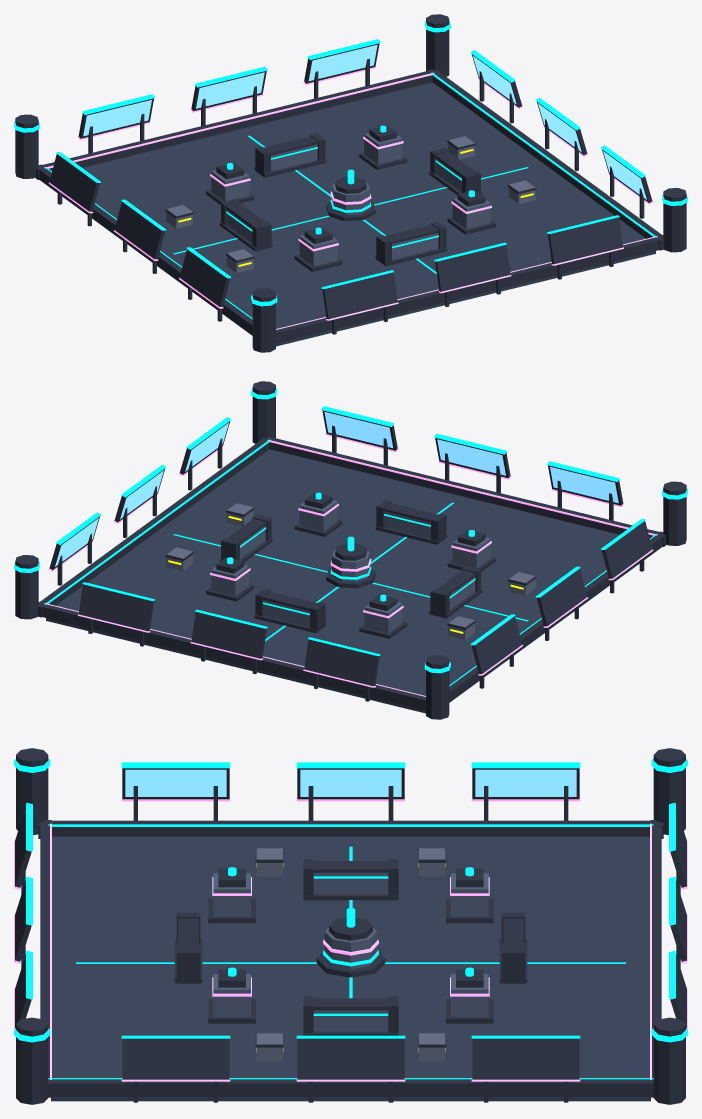
Rendered from arena_blaster.glb.
3 renders of one model, top to bottom at view 1: azimuth 30°, elevation 25°; view 2: azimuth 150°, elevation 25°; view 3: azimuth 270°, elevation 25°, orthographic. The views are drawn at different scales.
Visible parts, largest first — view 1: Arena_Floor, Perimeter_South, Perimeter_North, Perimeter_East, Billboard_Frame_3, Billboard_Frame_5, Billboard_Frame_4, Perimeter_West, Billboard_Frame_10, Billboard_Frame_9, Billboard_Frame_11, Tower_Base_0 (+18 smaller); view 2: Arena_Floor, Perimeter_North, Perimeter_South, Perimeter_East, Billboard_Frame_0, Billboard_Frame_2, Billboard_Frame_1, Perimeter_West, Billboard_Frame_10, Billboard_Frame_9, Billboard_Frame_11, Tower_Base_2 (+18 smaller); view 3: Arena_Floor, Perimeter_East, Perimeter_West, Billboard_Frame_6, Billboard_Frame_7, Billboard_Frame_8, Billboard_Screen_9, Billboard_Screen_10, Billboard_Screen_11, Tower_Base_1, Tower_Base_3, Perimeter_South (+40 smaller).
Boxes of the visible parts, box(x1,y1,x2,y2) form: Arena_Floor: box(82, 82, 655, 346); Perimeter_South: box(276, 235, 663, 343); Perimeter_North: box(35, 70, 440, 179); Perimeter_East: box(427, 69, 664, 250); Billboard_Frame_3: box(322, 272, 397, 319); Billboard_Frame_5: box(548, 217, 623, 264); Billboard_Frame_4: box(435, 245, 510, 291); Perimeter_West: box(38, 164, 252, 335); Billboard_Frame_10: box(114, 201, 165, 259); Billboard_Frame_9: box(179, 249, 230, 306); Billboard_Frame_11: box(49, 154, 100, 211); Tower_Base_0: box(252, 288, 275, 352); Arena_Floor: box(46, 449, 619, 713); Perimeter_North: box(38, 602, 425, 710); Perimeter_South: box(261, 437, 666, 546); Perimeter_East: box(37, 436, 274, 617); Billboard_Frame_0: box(304, 639, 379, 686); Billboard_Frame_2: box(78, 584, 153, 631); Billboard_Frame_1: box(191, 612, 266, 658); Perimeter_West: box(449, 531, 663, 702); Billboard_Frame_10: box(536, 568, 587, 626); Billboard_Frame_9: box(601, 521, 652, 578); Billboard_Frame_11: box(471, 616, 522, 673); Tower_Base_2: box(426, 655, 449, 719); Arena_Floor: box(51, 836, 650, 1101); Perimeter_East: box(50, 1079, 653, 1096); Perimeter_West: box(38, 820, 663, 838); Billboard_Frame_6: box(122, 1038, 229, 1079); Billboard_Frame_7: box(297, 1038, 404, 1079); Billboard_Frame_8: box(472, 1038, 579, 1079); Billboard_Screen_9: box(125, 769, 226, 796); Billboard_Screen_10: box(300, 769, 401, 796); Billboard_Screen_11: box(475, 769, 576, 796); Tower_Base_1: box(16, 1017, 48, 1104); Tower_Base_3: box(653, 1017, 685, 1104); Perimeter_South: box(40, 820, 51, 1097).
Size of the model in its own units: 53.91 by 7.5 by 53.91.
